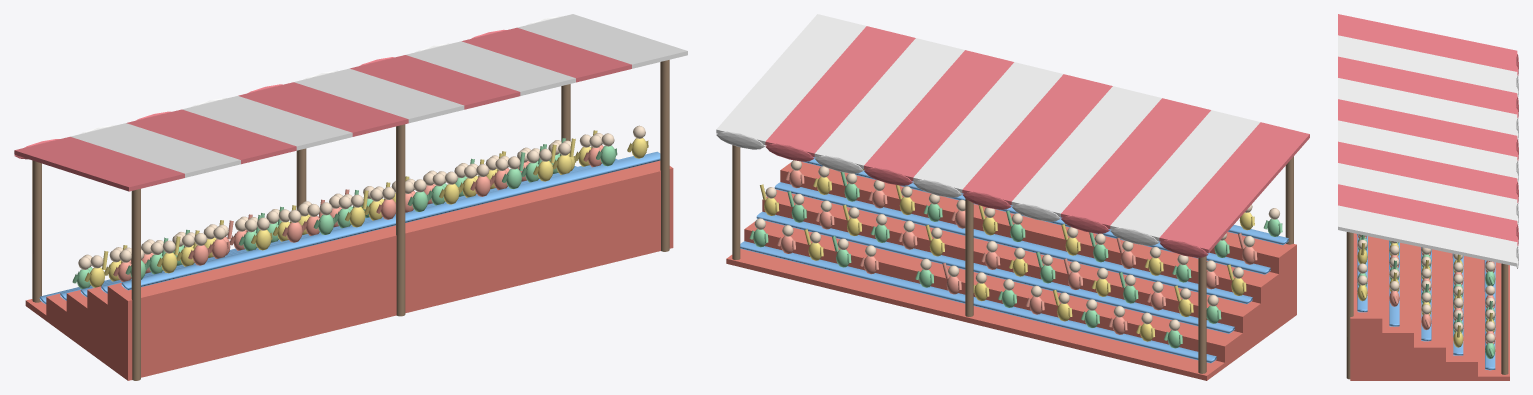
File: RockinRacewayStand.glb
The picture shows the model from 3 angles, left to right: view 1: azimuth 30°, elevation 25°; view 2: azimuth 150°, elevation 25°; view 3: azimuth 270°, elevation 25°; orthographic projection. The views are drawn at different scales.
Visible parts, largest first — view 1: Frame, AwningA, AwningB, Posts, Heads, Seats, FansC, FansB, FansA; view 2: AwningA, AwningB, Frame, Seats, Heads, FansB, FansC, FansA, Posts; view 3: AwningB, AwningA, Frame, Heads, Posts, Seats, FansC, FansB, FansA.
Part boxes in pixels (left/top/right/bottom): Frame: left=25, top=160, right=673, bottom=380; AwningA: left=14, top=27, right=631, bottom=191; AwningB: left=71, top=14, right=687, bottom=177; Posts: left=32, top=60, right=669, bottom=380; Heads: left=78, top=125, right=645, bottom=269; Seats: left=39, top=151, right=660, bottom=304; FansC: left=84, top=130, right=648, bottom=287; FansB: left=72, top=138, right=617, bottom=289; FansA: left=113, top=145, right=603, bottom=281; AwningA: left=765, top=26, right=1309, bottom=257; AwningB: left=716, top=14, right=1260, bottom=245; Frame: left=726, top=161, right=1296, bottom=380; Seats: left=740, top=157, right=1288, bottom=363; Heads: left=754, top=160, right=1279, bottom=330; FansB: left=749, top=172, right=1282, bottom=348; FansC: left=760, top=169, right=1254, bottom=341; FansA: left=777, top=170, right=1257, bottom=334; Posts: left=732, top=145, right=1293, bottom=373; AwningB: left=1338, top=35, right=1518, bottom=268; AwningA: left=1338, top=14, right=1518, bottom=245; Frame: left=1350, top=233, right=1509, bottom=380; Heads: left=1357, top=234, right=1494, bottom=343; Posts: left=1346, top=232, right=1508, bottom=379; Seats: left=1357, top=234, right=1495, bottom=370; FansC: left=1357, top=243, right=1495, bottom=347; FansB: left=1357, top=235, right=1495, bottom=358; FansA: left=1357, top=234, right=1495, bottom=343.
Bounding box in the file's own units: 41 × 14.1 × 14.74.
